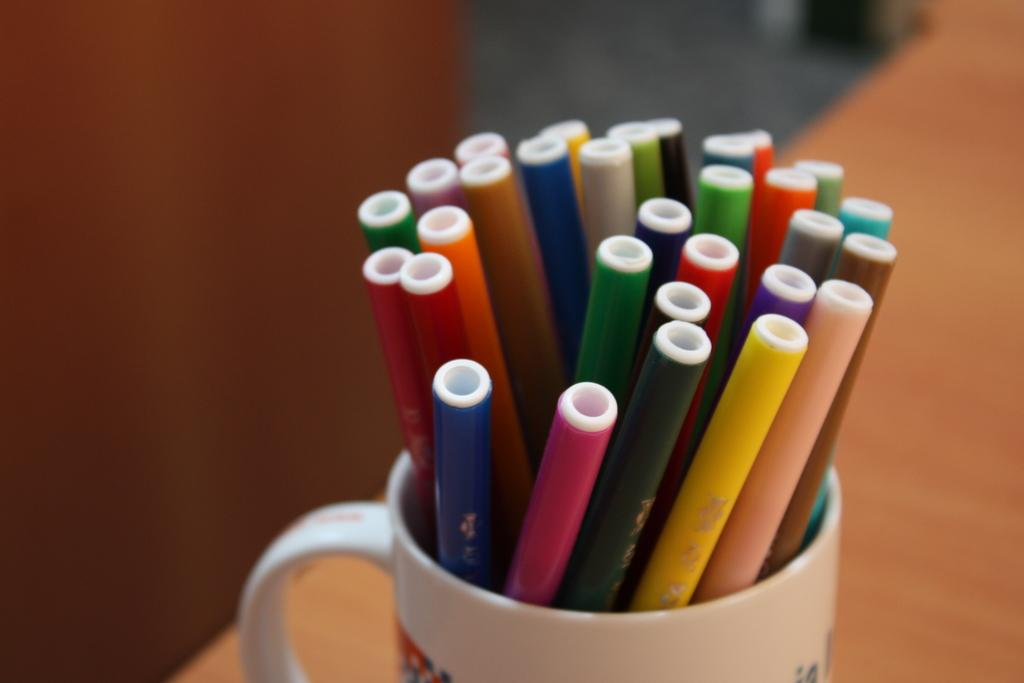pen: (360, 114, 897, 606)
